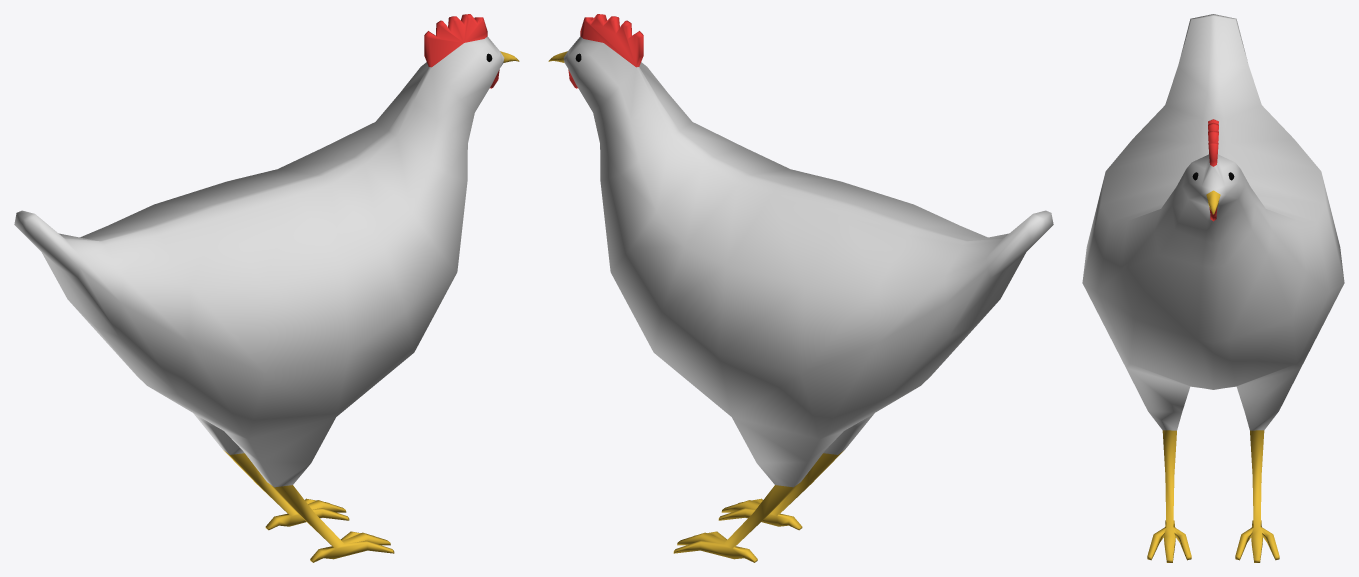
File: Chicken.fbx
3 views of the same model, side by side, from view 1: azimuth 30°, elevation 25°; view 2: azimuth 150°, elevation 25°; view 3: azimuth 270°, elevation 25° (orthographic).
Parts seen in each view (by area): view 1: Cube; view 2: Cube; view 3: Cube.
Part boxes in pixels (x1,y1,x2,y2): Cube: [14, 14, 519, 562]; Cube: [548, 14, 1053, 562]; Cube: [1082, 14, 1344, 562].
Size of the model in its own units: 488 by 461 by 228.
